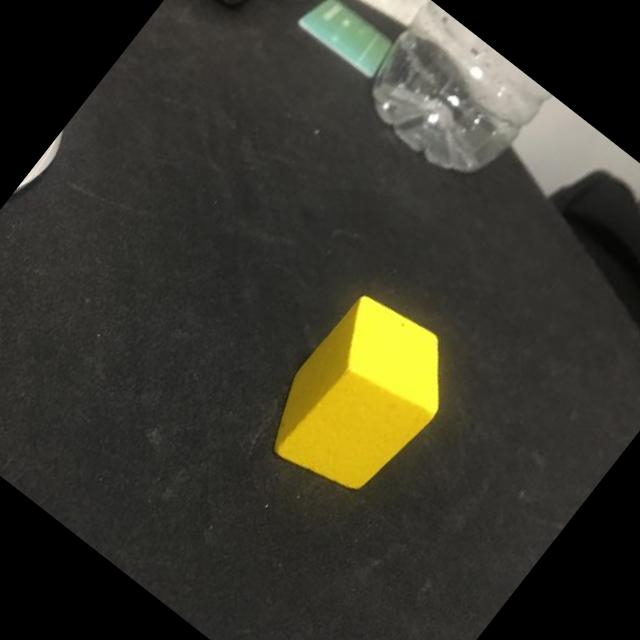yellow: (247, 280, 475, 520)
